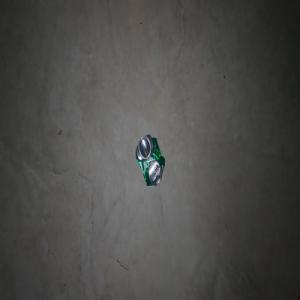SodaCan: (135, 133, 165, 186)
